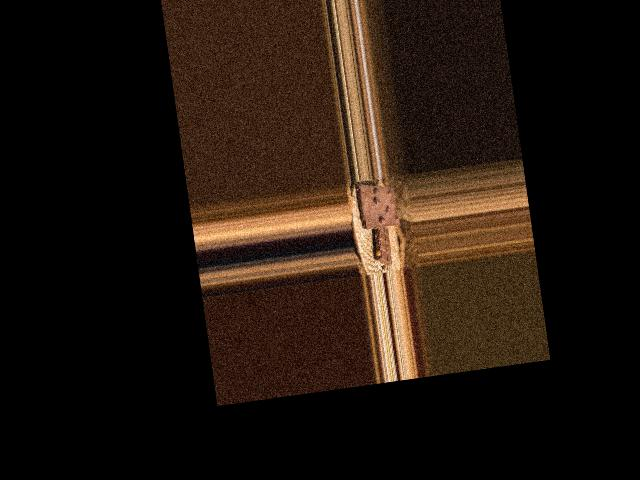chocolate: (355, 179, 401, 233)
